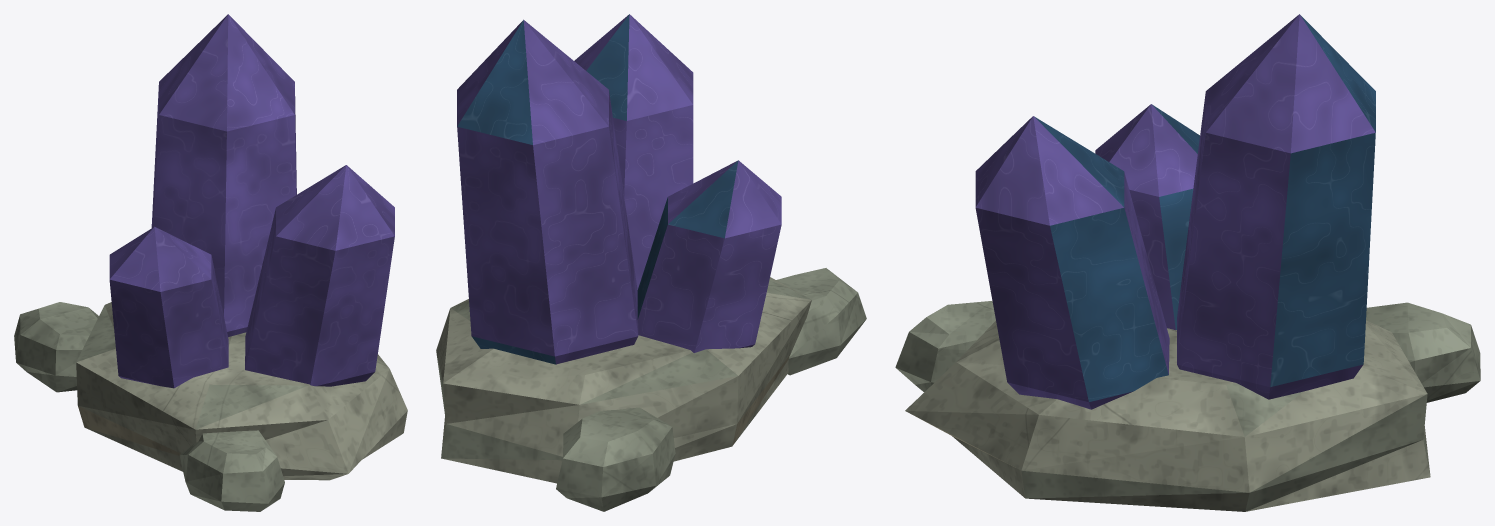
File: a17_mineral_cluster_large.fbx
3 renders of one model, left to right at view 1: azimuth 30°, elevation 25°; view 2: azimuth 150°, elevation 25°; view 3: azimuth 270°, elevation 25°, orthographic. The views are drawn at different scales.
Visible parts, largest first — view 1: a17_mineral_cluster_large; view 2: a17_mineral_cluster_large; view 3: a17_mineral_cluster_large.
Part boxes in pixels (x1,y1,x2,y2): a17_mineral_cluster_large: [14, 14, 407, 511]; a17_mineral_cluster_large: [436, 14, 866, 511]; a17_mineral_cluster_large: [895, 14, 1480, 511].
Size of the model in its own units: 11708 by 17361 by 14734.
